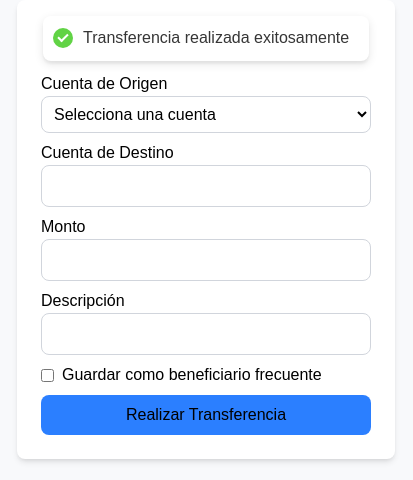
Test: TransferForm › debería mostrar un mensaje de error si falla el envío
Select "Cuenta Corriente1 - ****7890 (€5,842.75)" in the dropdown labelled "Cuenta de Origen" at (206,114), box x1=41 y1=96 x2=371 y2=133
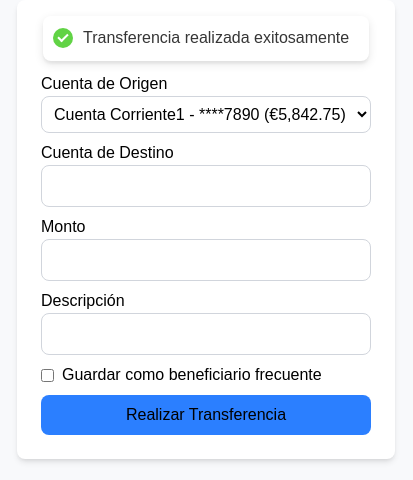
Type "1234567890" into the field labelled "Cuenta de Destino".
click(206, 186); type("1234567890")  # box x1=41 y1=165 x2=371 y2=207
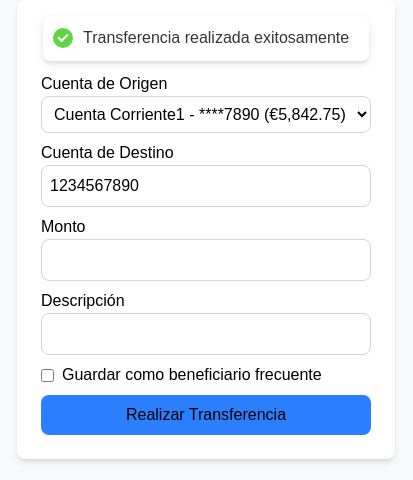
Type "100.50" into the field labelled "Monto".
click(206, 260); type("100.50")  # box x1=41 y1=239 x2=371 y2=281
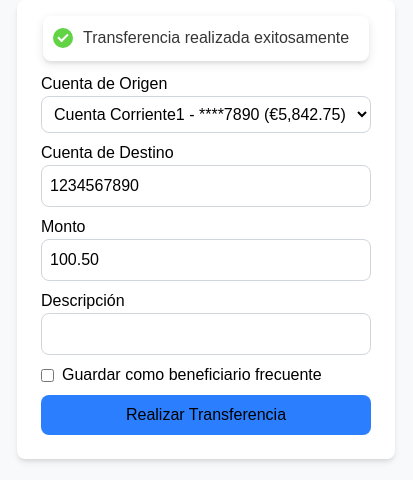
Type "Pago de servicios" into the field labelled "Descripción".
click(206, 334); type("Pago de servicios")  # box x1=41 y1=313 x2=371 y2=355
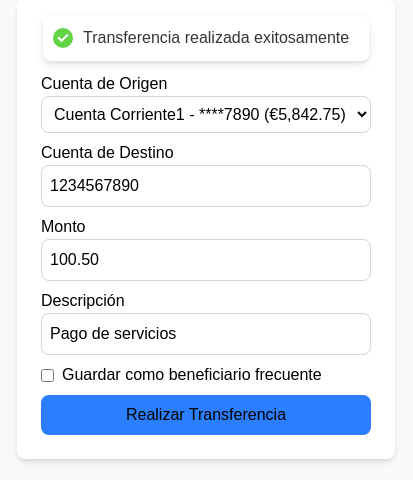
Click the checkbox labelled "Guardar como beneficiario frecuente".
click(48, 375)  # box x1=41 y1=368 x2=54 y2=382
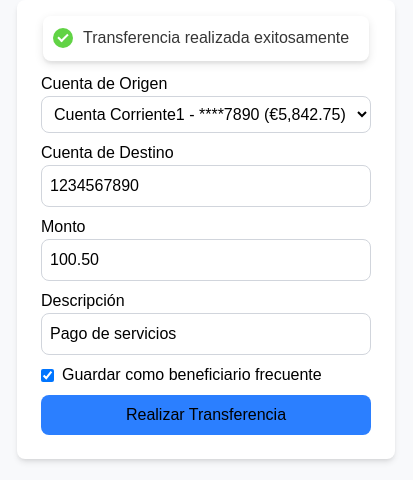
Click the button "Realizar Transferencia".
click(206, 415)  # box x1=41 y1=395 x2=371 y2=435
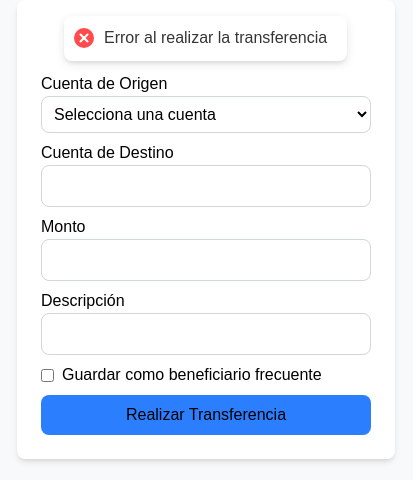
Result: the text "Error al realizar la transferencia" is shown at x1=104 y1=28 x2=328 y2=49
